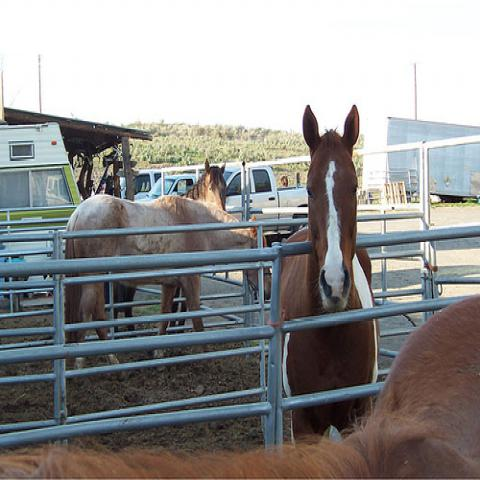truck: (226, 163, 308, 235), (137, 172, 202, 202), (133, 170, 168, 202)
